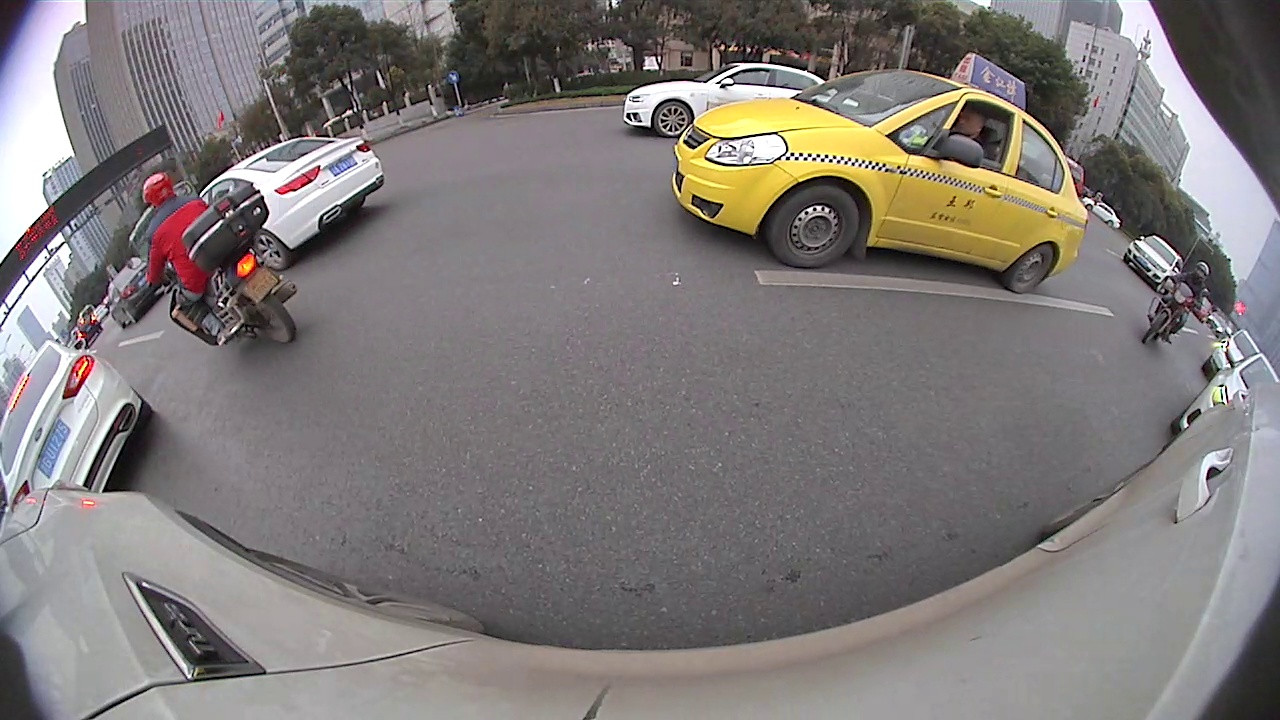car: (668, 53, 1091, 294), (1, 341, 151, 519), (201, 135, 386, 271), (622, 60, 849, 139), (1175, 355, 1278, 443), (99, 266, 170, 324), (1123, 236, 1182, 291), (1202, 330, 1262, 373)
front: (769, 186, 863, 267), (653, 98, 694, 140)
rear: (241, 289, 300, 342), (1005, 243, 1055, 294), (249, 228, 290, 272)
rider: (142, 173, 294, 348), (1142, 252, 1213, 343)
